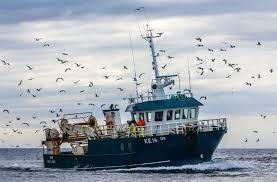Ship: (42, 29, 231, 170)
